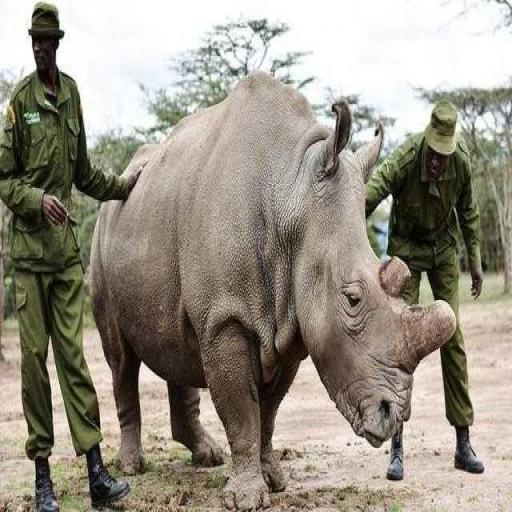Rhino: (88, 70, 457, 510)
